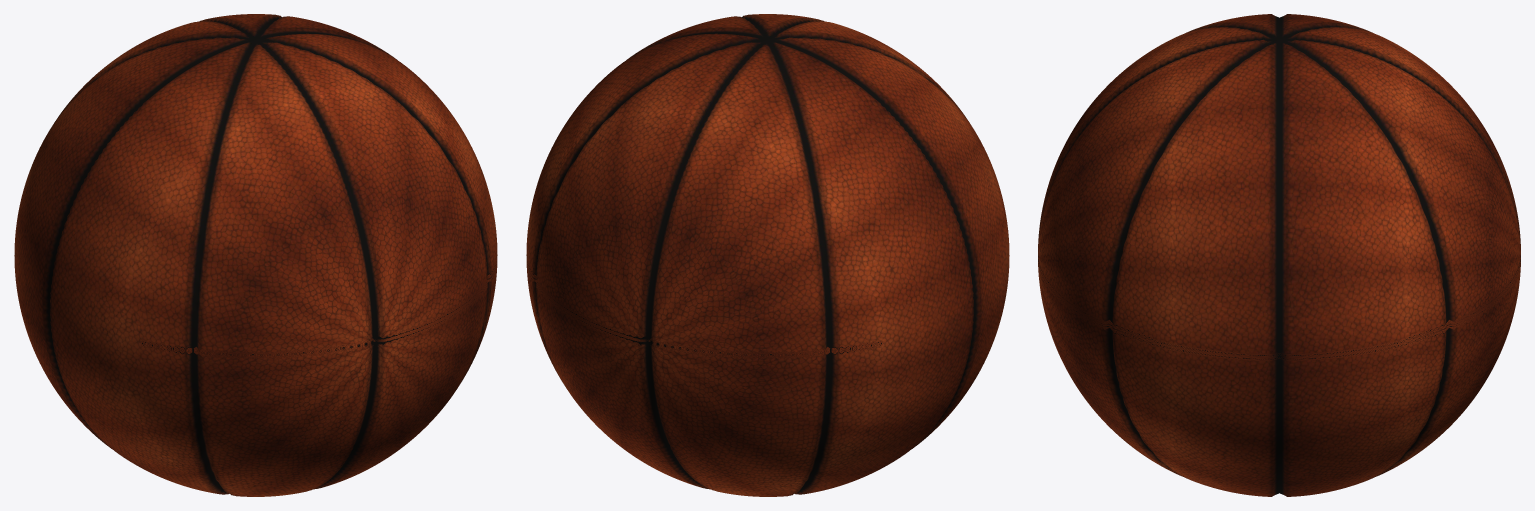
3 renders of one model, left to right at view 1: azimuth 30°, elevation 25°; view 2: azimuth 150°, elevation 25°; view 3: azimuth 270°, elevation 25°, orthographic.
Parts seen in each view (by area): view 1: geometry_0; view 2: geometry_0; view 3: geometry_0.
Boxes of the visible parts, x1=… form: geometry_0: x1=14, y1=14, x2=497, y2=496; geometry_0: x1=526, y1=14, x2=1009, y2=496; geometry_0: x1=1038, y1=14, x2=1520, y2=496.
Bounding box in the file's own units: 0.2419 × 0.2412 × 0.2419.
Materials: 1 (1 with a texture image).
